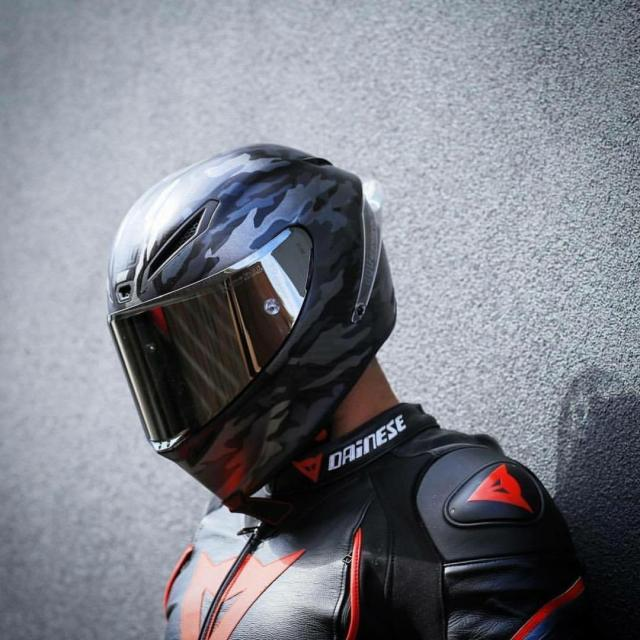Helm: (100, 137, 399, 500)
